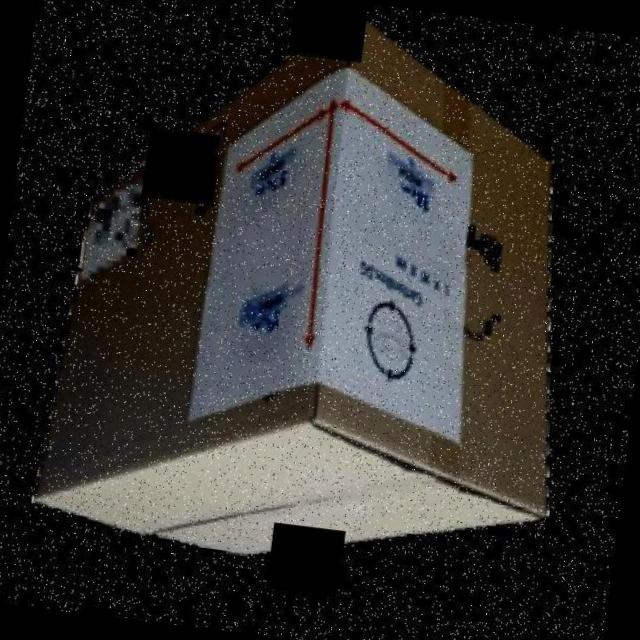box: (23, 0, 616, 603)
